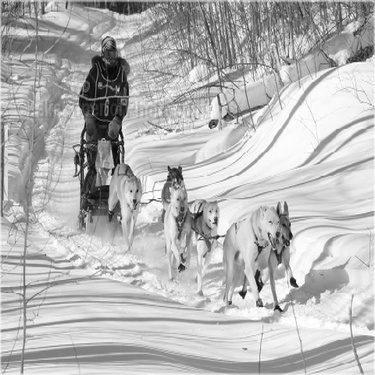dog: (228, 190, 310, 313), (198, 200, 285, 313), (88, 154, 142, 254), (149, 179, 197, 283), (169, 192, 227, 278), (149, 160, 192, 236)
